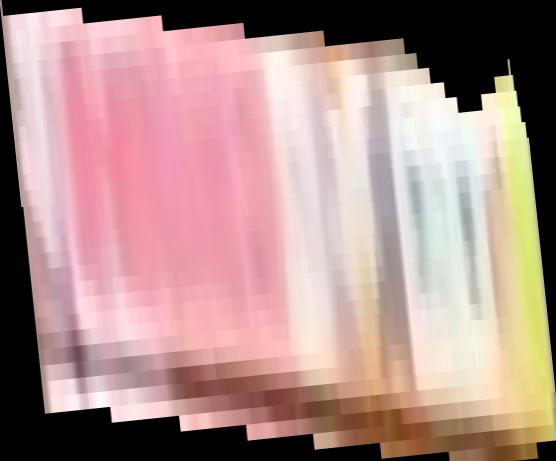flat: (1, 1, 556, 461)
